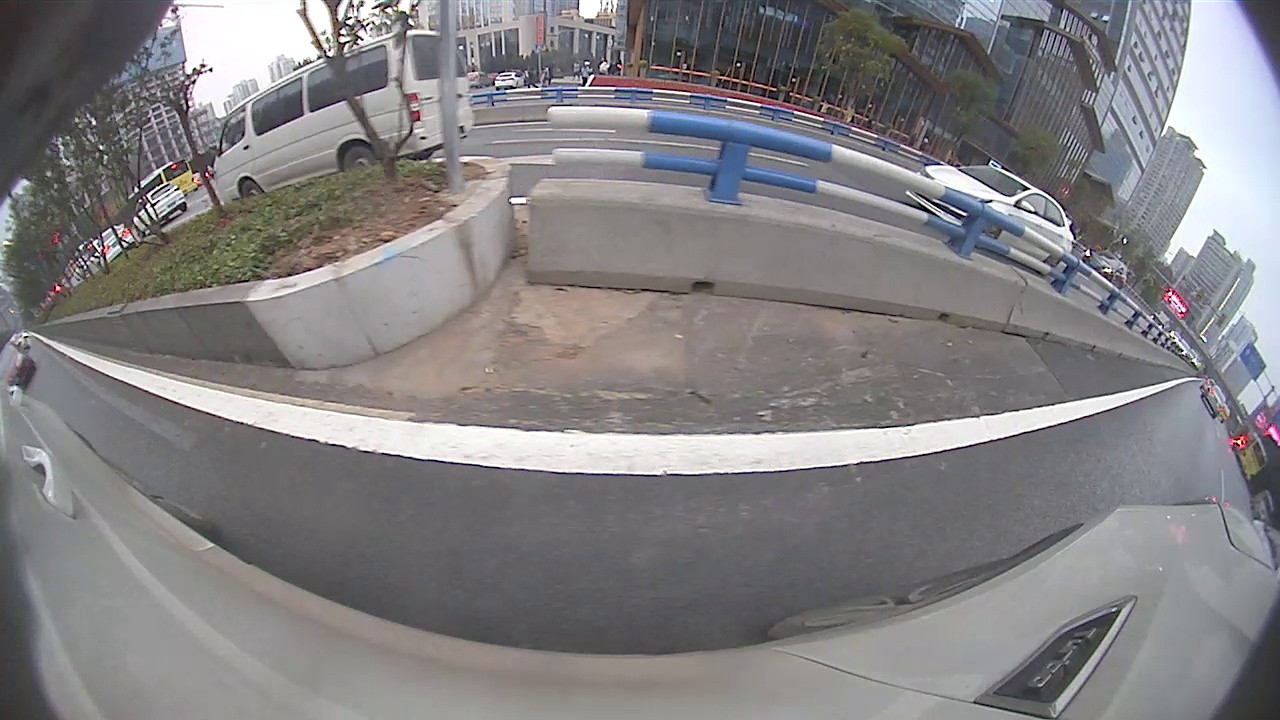car: (210, 28, 478, 206), (1, 342, 37, 381), (1202, 384, 1229, 419)
front: (234, 173, 268, 198)
rear: (338, 140, 378, 177)
